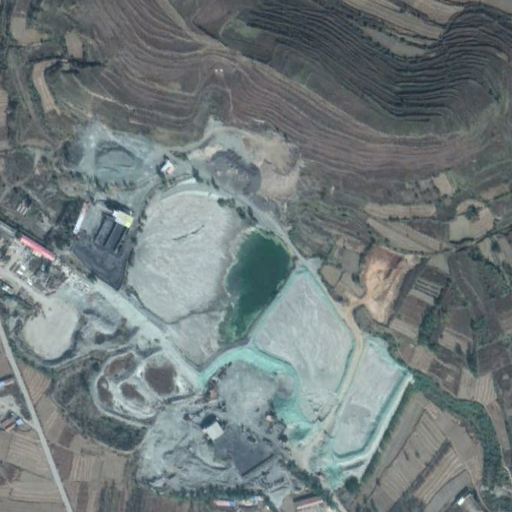tp: (112, 178, 415, 483)
